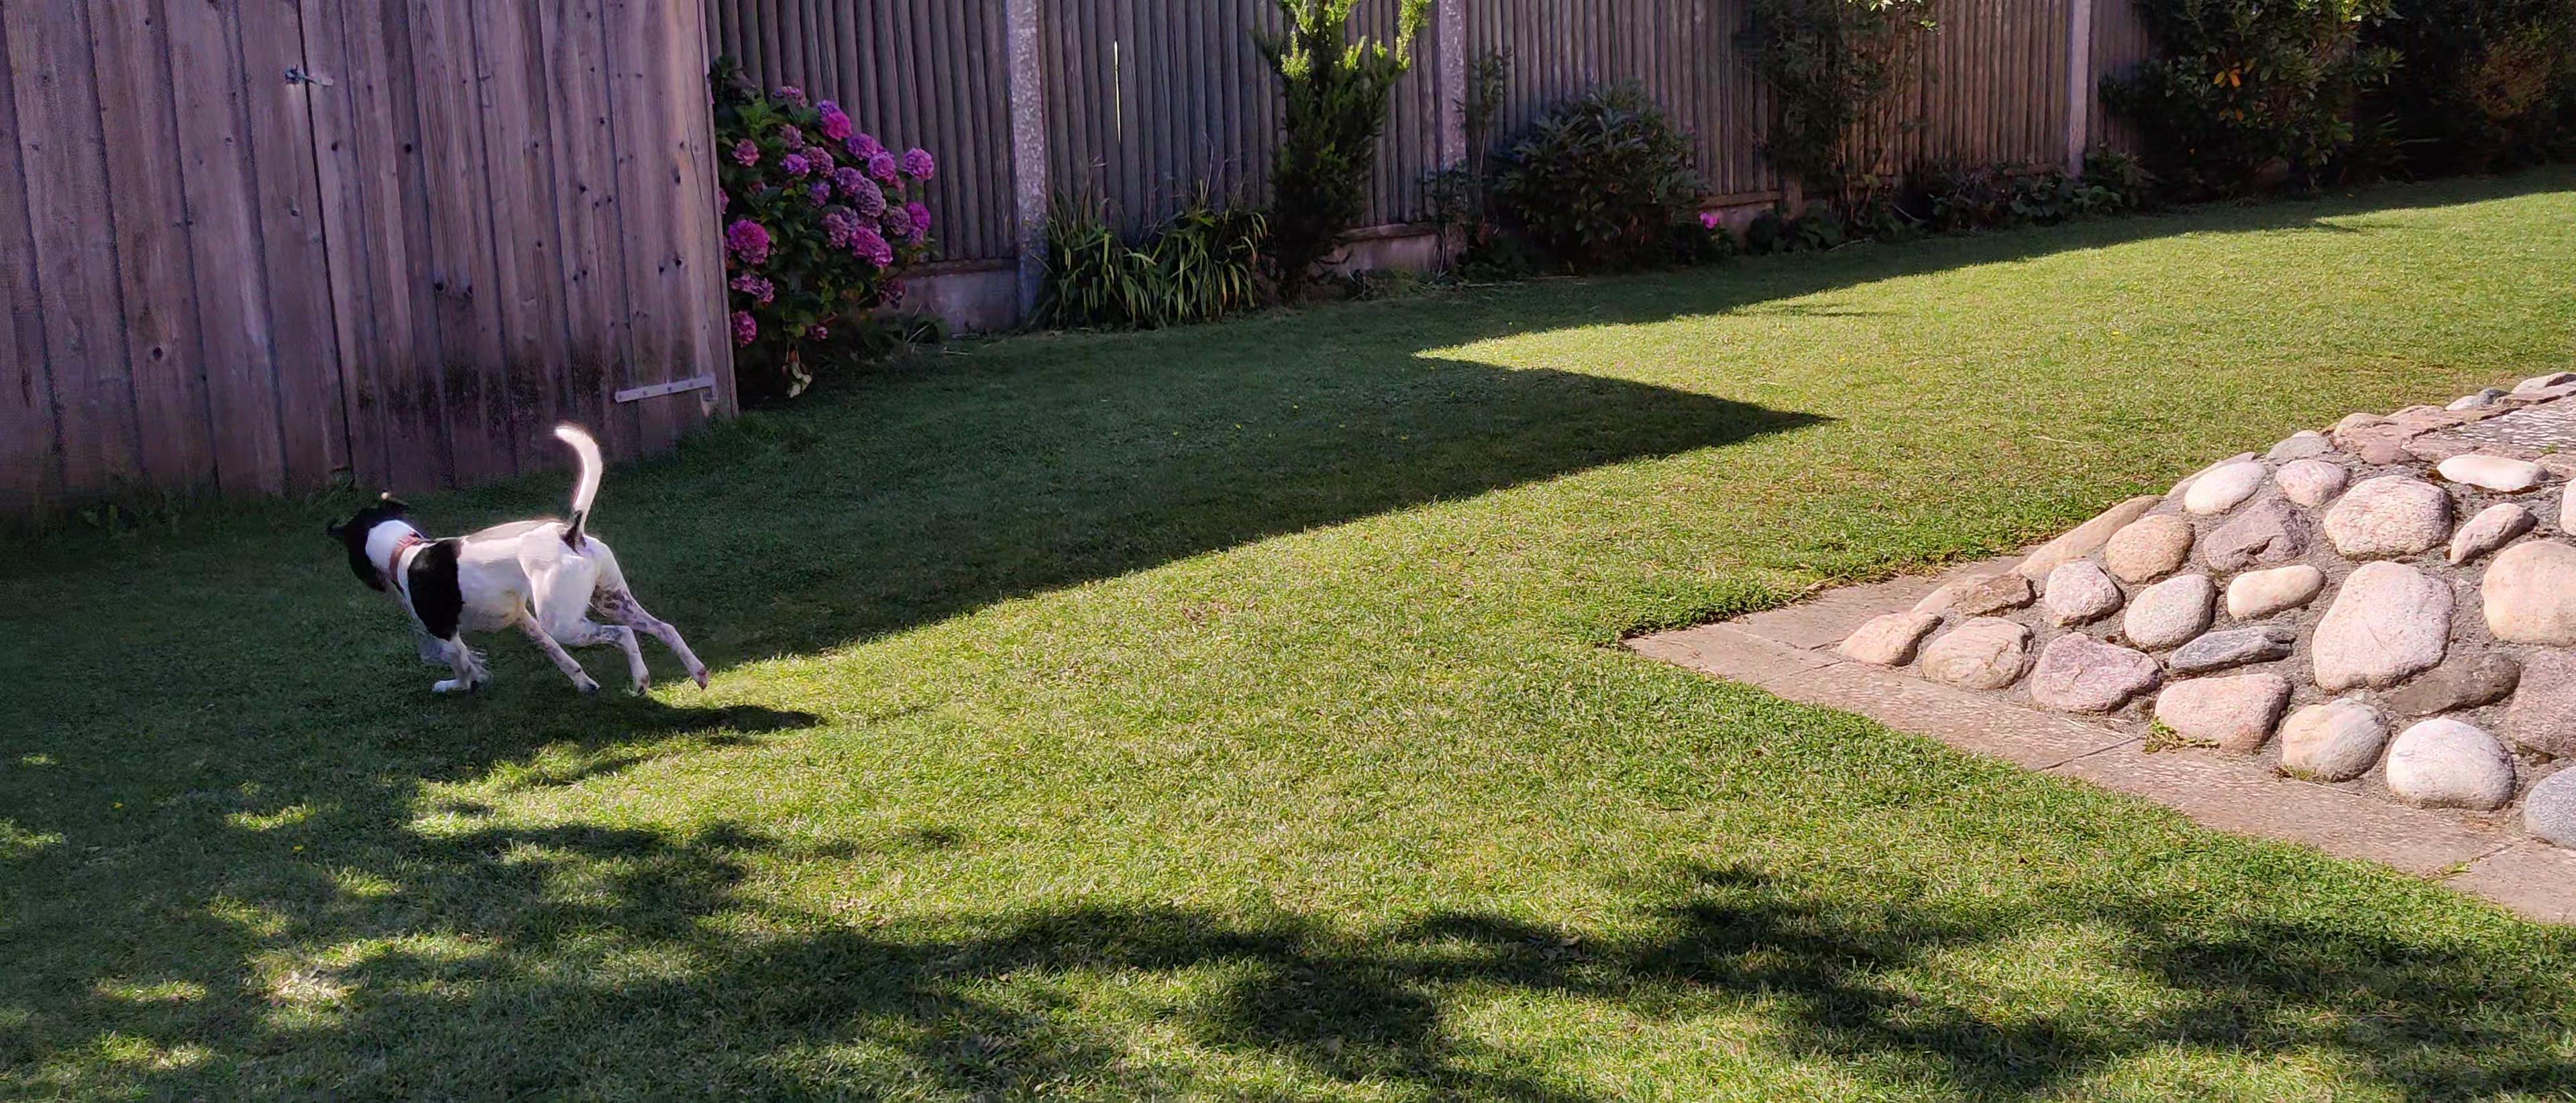Dog: (319, 413, 724, 705)
